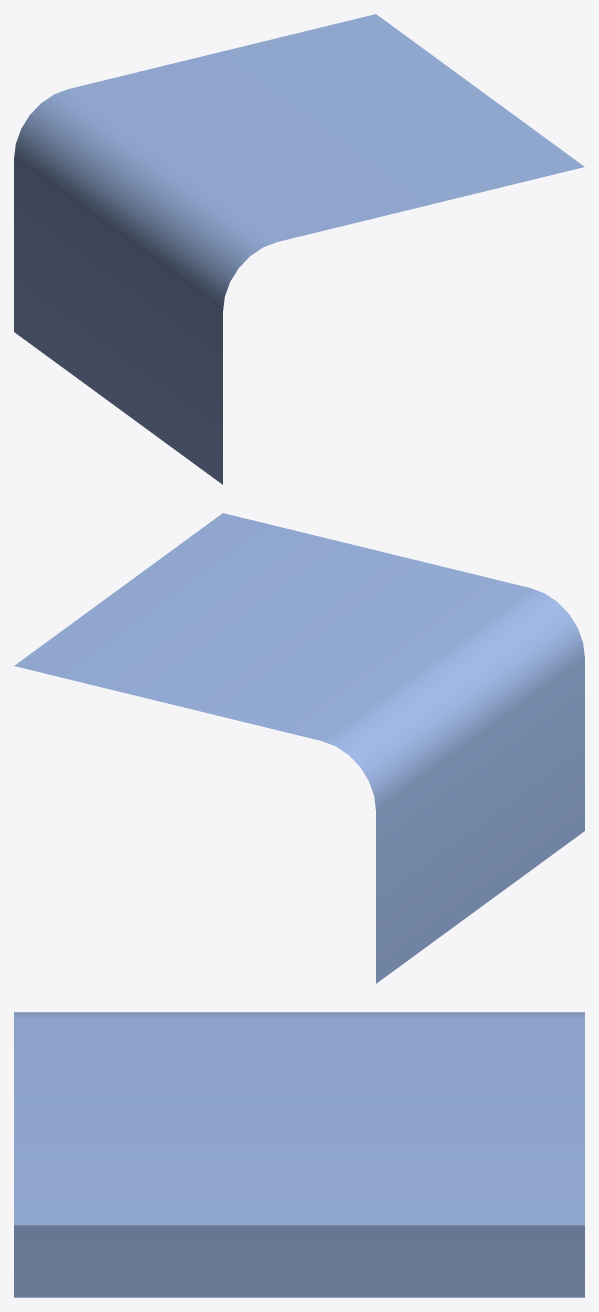
Rendered from postbox.fbx.
The picture shows the model from 3 angles, top to bottom: view 1: azimuth 30°, elevation 25°; view 2: azimuth 150°, elevation 25°; view 3: azimuth 270°, elevation 25°; orthographic projection. The views are drawn at different scales.
Parts seen in each view (by area): view 1: Plane; view 2: Plane; view 3: Plane.
Part boxes in pixels (x1,y1,x2,y2): Plane: (14,14,584,484); Plane: (14,513,584,983); Plane: (14,1012,584,1297).
Bounding box in the file's own units: 7236 × 4386 × 7236.
